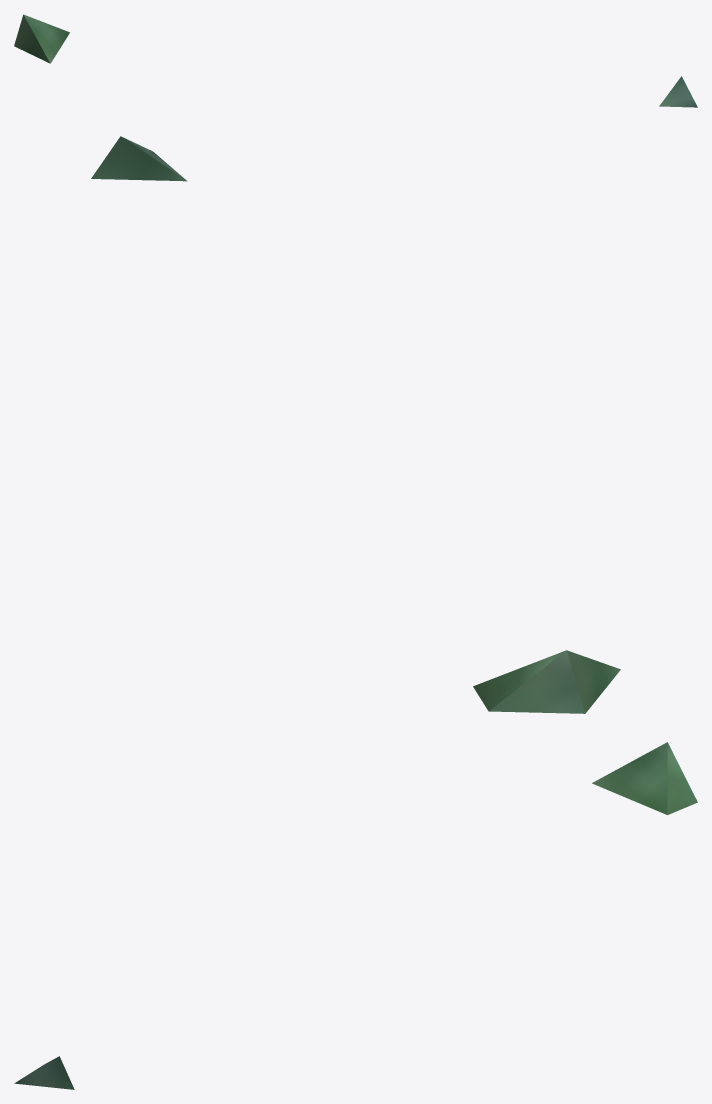
3 renders of one model, top to bottom at view 1: azimuth 30°, elevation 25°; view 2: azimuth 150°, elevation 25°; view 3: azimuth 270°, elevation 25°, orthographic. The views are drawn at different scales.
Parts seen in each view (by area): view 1: 30436272704361506515_0; view 2: 30436272704361506515_0; view 3: 30436272704361506515_0.
Boxes of the visible parts, left/top/right/bottom form: 30436272704361506515_0: left=14, top=14, right=697, bottom=107; 30436272704361506515_0: left=91, top=136, right=620, bottom=713; 30436272704361506515_0: left=14, top=742, right=697, bottom=1089.
Bounding box in the file's own units: 7.52 × 0.4622 × 6.94.
1 material, 1 textured.
